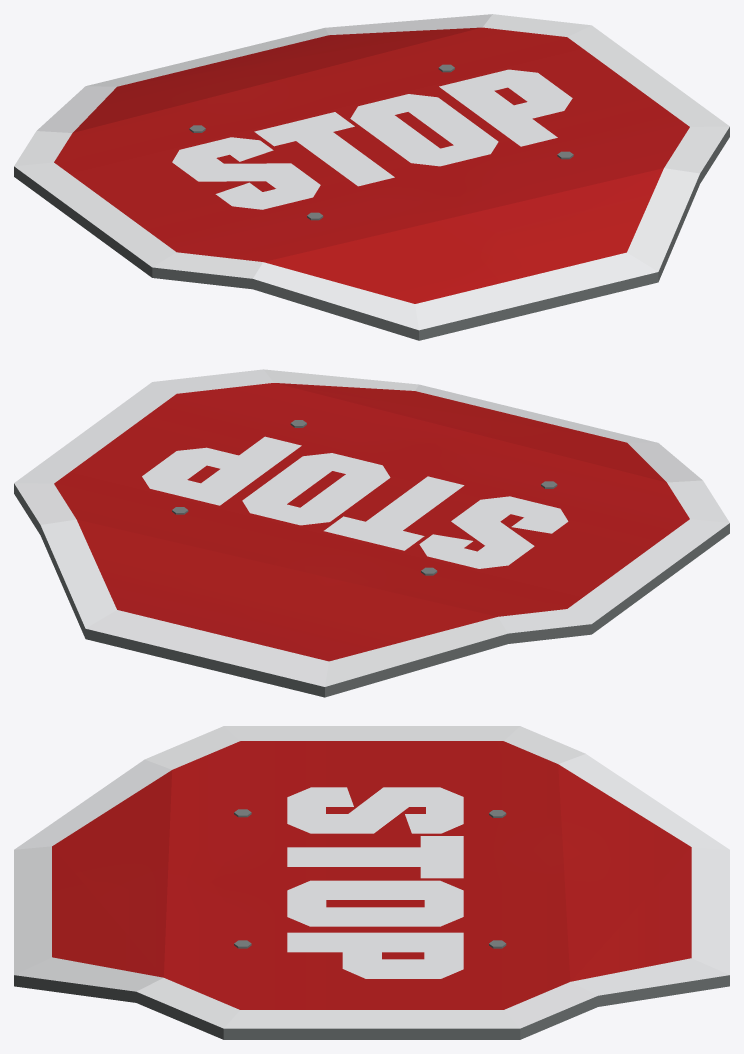
Rendered from Stop.glb.
The picture shows the model from 3 angles, top to bottom: view 1: azimuth 30°, elevation 25°; view 2: azimuth 150°, elevation 25°; view 3: azimuth 270°, elevation 25°; orthographic projection. The views are drawn at different scales.
Parts seen in each view (by area): view 1: Stop_Shiled; view 2: Stop_Shiled; view 3: Stop_Shiled.
Part boxes in pixels (bbox=[...]): Stop_Shiled: bbox=[14, 14, 729, 340]; Stop_Shiled: bbox=[14, 369, 729, 697]; Stop_Shiled: bbox=[14, 726, 729, 1039].
Size of the model in its own units: 1.02 by 0.0801 by 1.02.
1 material, 1 textured.
